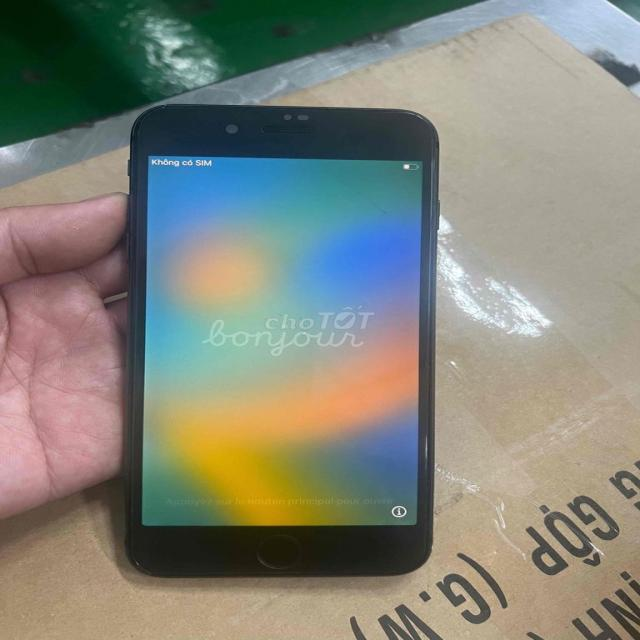scratch: (108, 91, 444, 589)
